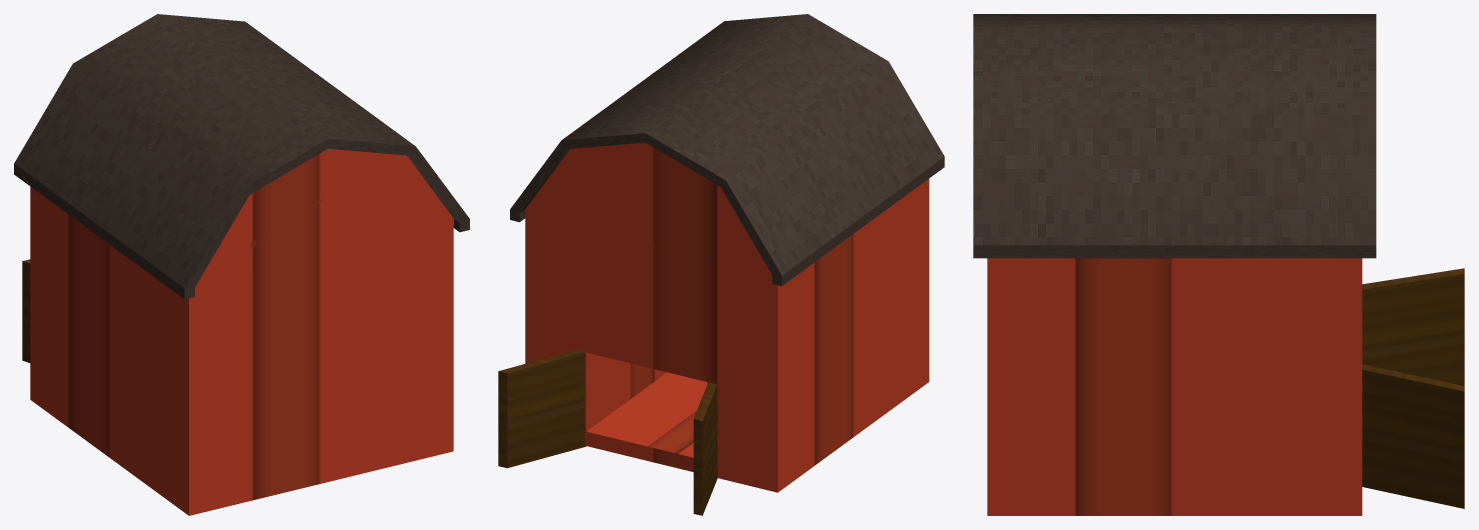
The model's file is Barn.FBX.
3 views of the same model, side by side, from view 1: azimuth 30°, elevation 25°; view 2: azimuth 150°, elevation 25°; view 3: azimuth 270°, elevation 25° (orthographic). The views are drawn at different scales.
Parts seen in each view (by area): view 1: polySurface21; view 2: polySurface21; view 3: polySurface21.
Part boxes in pixels (x1,y1,x2,y2): polySurface21: (14, 14, 469, 515); polySurface21: (498, 14, 944, 515); polySurface21: (973, 14, 1464, 515).
Size of the model in its own units: 14.54 by 17.06 by 18.38.
Materials: 3 (3 with a texture image).
